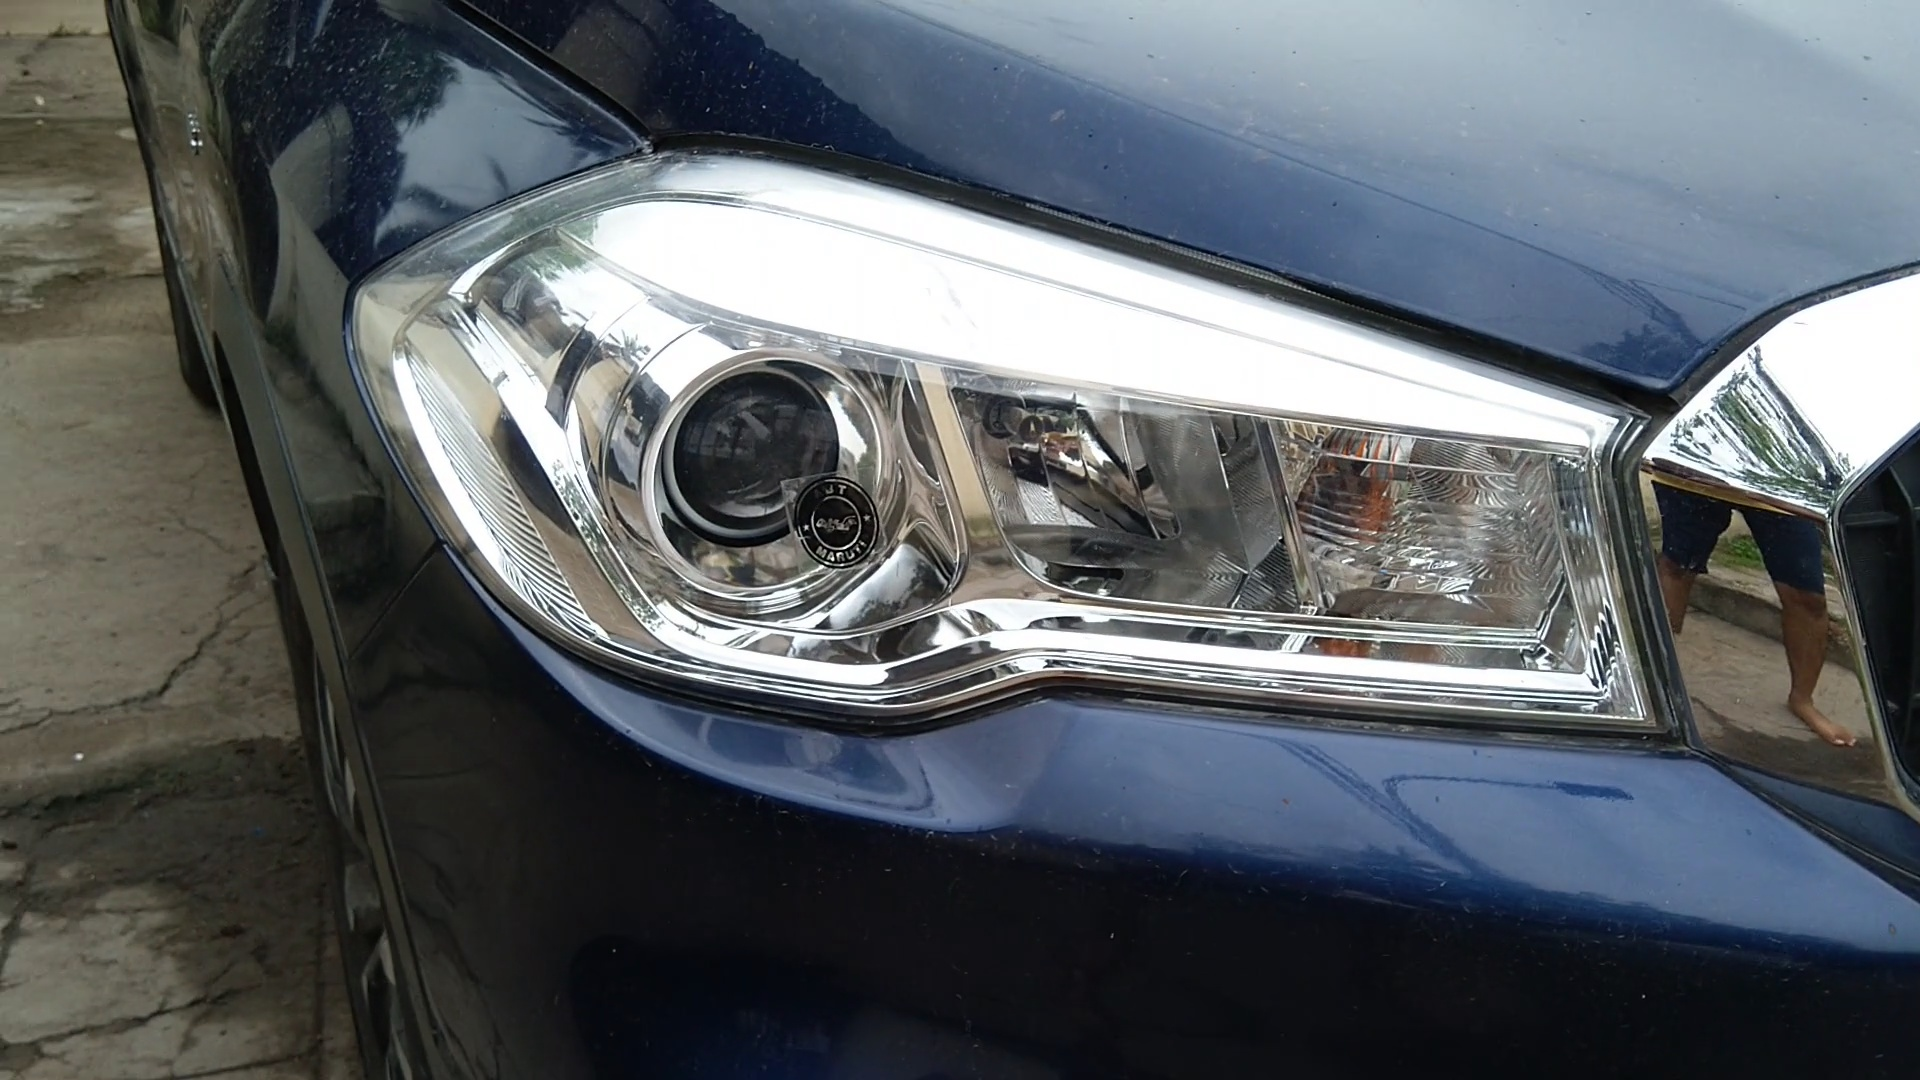headlamp: (331, 127, 1665, 735)
